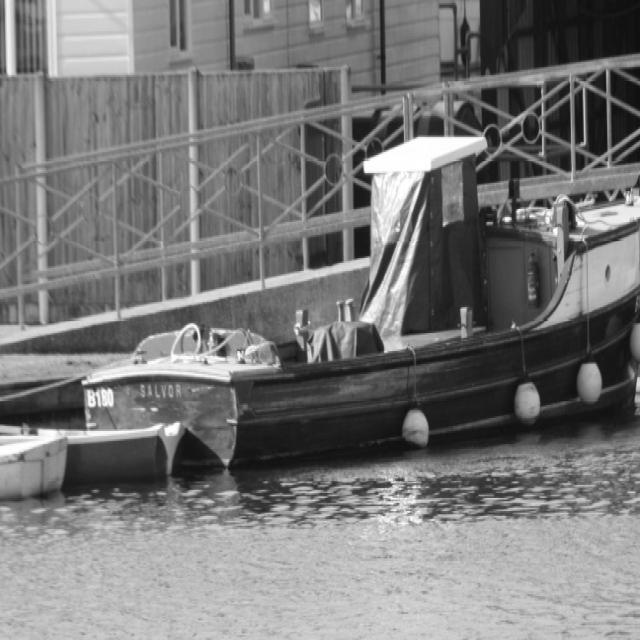tugboat: (77, 130, 640, 483)
